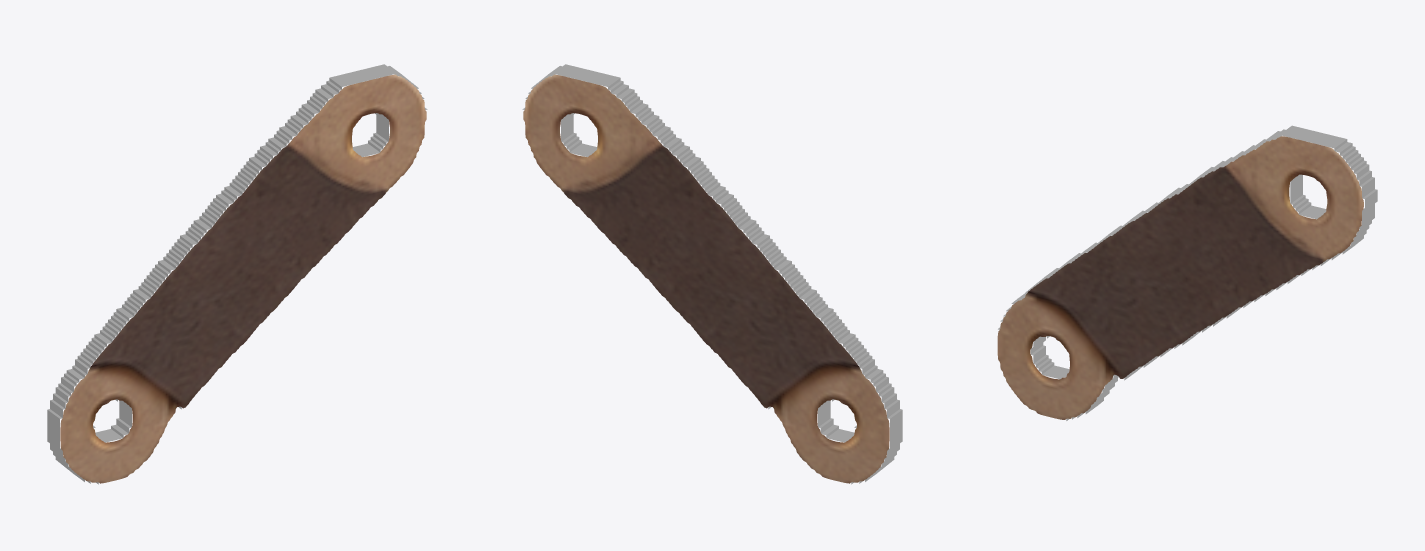
File: Variant04Upper.glb
3 views of the same model, side by side, from view 1: azimuth 30°, elevation 25°; view 2: azimuth 150°, elevation 25°; view 3: azimuth 330°, elevation 25° (orthographic).
Parts seen in each view (by area): view 1: PaperVolume; view 2: PaperVolume; view 3: PaperVolume.
Part boxes in pixels (left/top/right/bottom): PaperVolume: left=47, top=64, right=427, bottom=484; PaperVolume: left=522, top=64, right=902, bottom=484; PaperVolume: left=997, top=125, right=1377, bottom=420.
Size of the model in its own units: 1.57 by 1.41 by 0.08.
3 materials, 2 textured.
